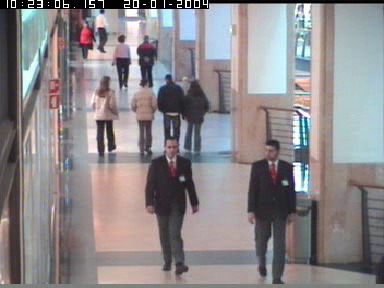person: (145, 137, 199, 275), (246, 139, 295, 284), (88, 75, 117, 156), (131, 79, 159, 155), (157, 76, 185, 150), (184, 79, 210, 153), (135, 35, 156, 88), (111, 35, 130, 88), (76, 19, 96, 60), (94, 9, 110, 53)
